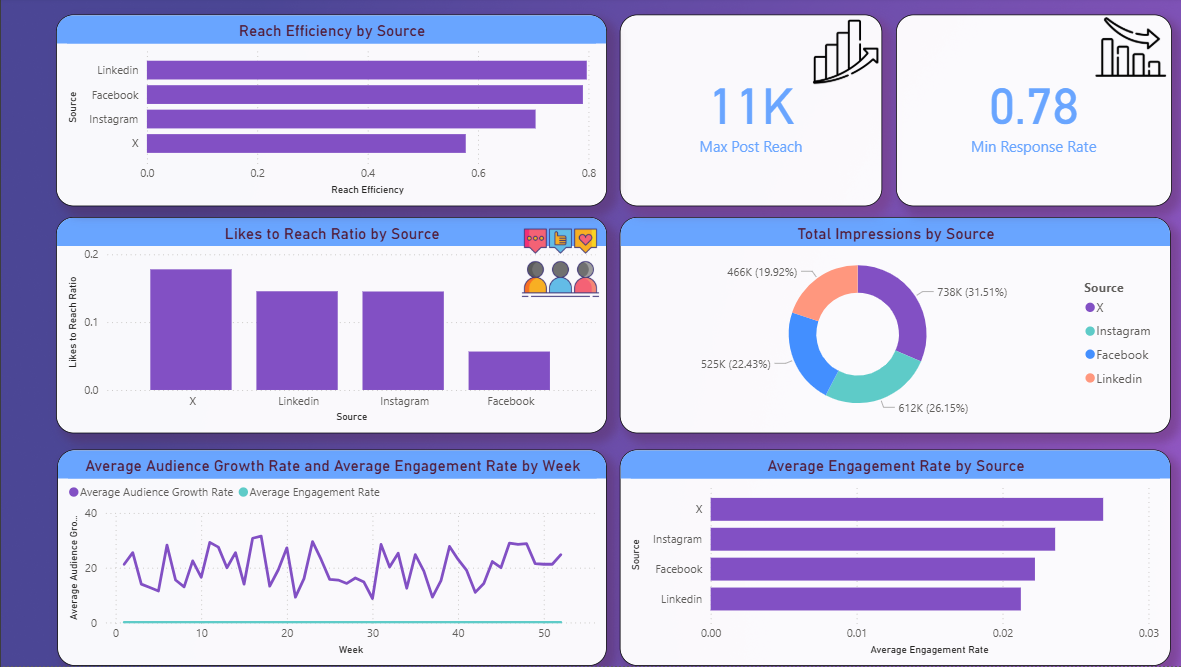

The page's visual inventory and layout, read from the dashboard file:
{"tool":"powerbi","page":{"name":"Page 2","canvas":[1280,720],"ordinal":1},"visuals":[{"type":"lineChart","fields":{"Category":["All Tables.Week"],"Y":["new dax table.Average Audience Growth Rate","new dax table.Average Engagement Rate"]},"box":[60.7,487,591.4,232.9],"z":0},{"type":"clusteredColumnChart","fields":{"Category":["All Tables.Source"],"Y":["new dax table.Likes to Reach Ratio"]},"box":[59.3,237.1,592.9,232.9],"z":1000},{"type":"donutChart","fields":{"Category":["All Tables.Source"],"Y":["new dax table.Total Impressions"]},"box":[666.3,237.1,592.9,232.9],"z":2000},{"type":"clusteredBarChart","fields":{"Category":["All Tables.Source"],"Y":["new dax table.Average Engagement Rate"]},"box":[666.3,487,592.9,232.9],"z":3000},{"type":"card","fields":{"Values":["new dax table.Max Post Reach"]},"box":[666.3,18.4,282.3,206.1],"z":4000},{"type":"card","fields":{"Values":["new dax table.Min Response Rate"]},"box":[962.7,18.4,296.4,206.1],"z":5000},{"type":"clusteredBarChart","fields":{"Category":["All Tables.Source"],"Y":["new dax table.Reach Efficiency"]},"box":[59.3,18.4,592.9,206.1],"z":6000},{"type":"image","box":[553.3,237.1,98.8,98.8],"z":7000},{"type":"image","box":[868.1,18.4,80.5,80.5],"z":8000},{"type":"image","box":[1173,9.9,86.1,88.9],"z":8001}]}

Visuals, with their boxes in screenshot pixels (x1, y1, x2, y2), scaled from the page's 1280x720 canvas onto the 1181x667 screenshot:
lineChart - All Tables.Week x new dax table.Average Audience Growth Rate: [56, 451, 602, 666]
clusteredColumnChart - All Tables.Source x new dax table.Likes to Reach Ratio: [55, 220, 602, 435]
donutChart - All Tables.Source x new dax table.Total Impressions: [615, 220, 1162, 435]
clusteredBarChart - All Tables.Source x new dax table.Average Engagement Rate: [615, 451, 1162, 666]
card - new dax table.Max Post Reach: [615, 17, 875, 208]
card - new dax table.Min Response Rate: [888, 17, 1162, 208]
clusteredBarChart - All Tables.Source x new dax table.Reach Efficiency: [55, 17, 602, 208]
image: [511, 220, 602, 311]
image: [801, 17, 875, 92]
image: [1082, 9, 1162, 92]
